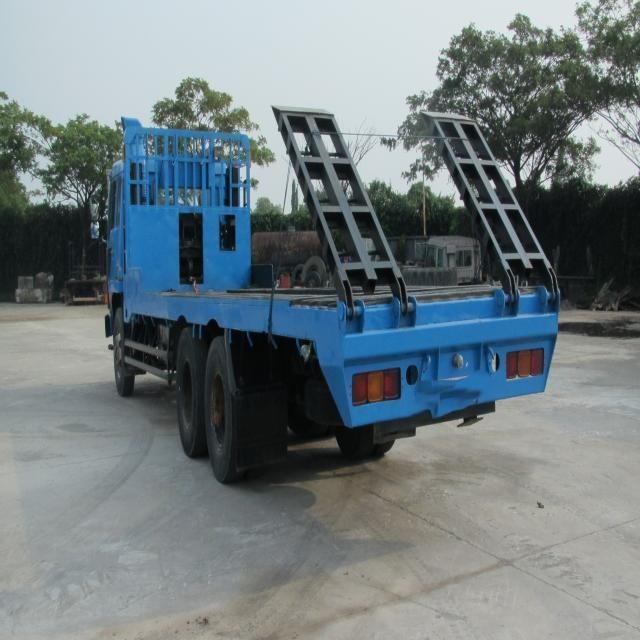truck: (105, 110, 560, 482)
